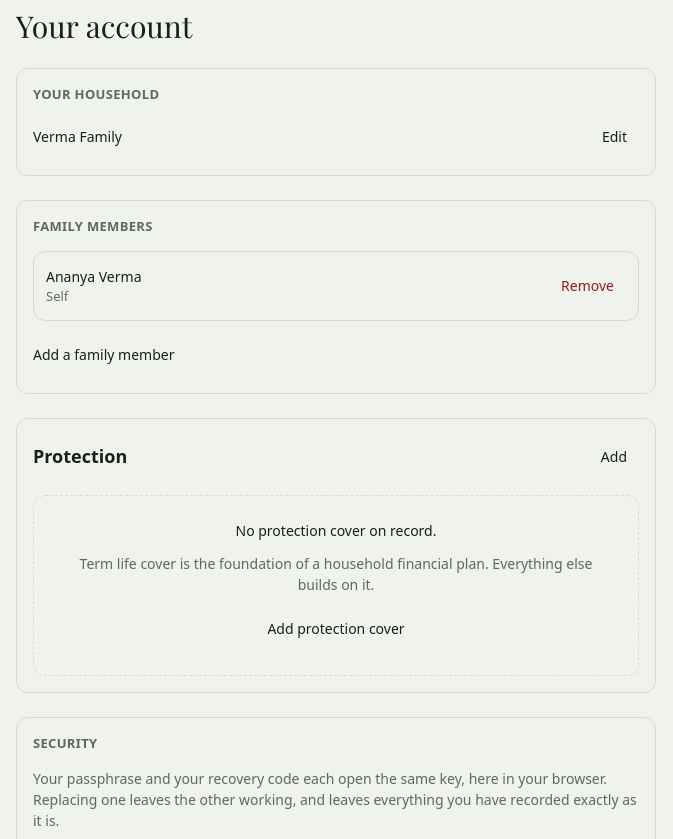
Scenario: Profile › shows the household name and edits it via the inline Edit form
The image size is (673, 839).
Expected: the text "Verma Family" is shown, [33,126,122,147]
Click the button "Edit" at (614, 137), box [590,115,639,159]
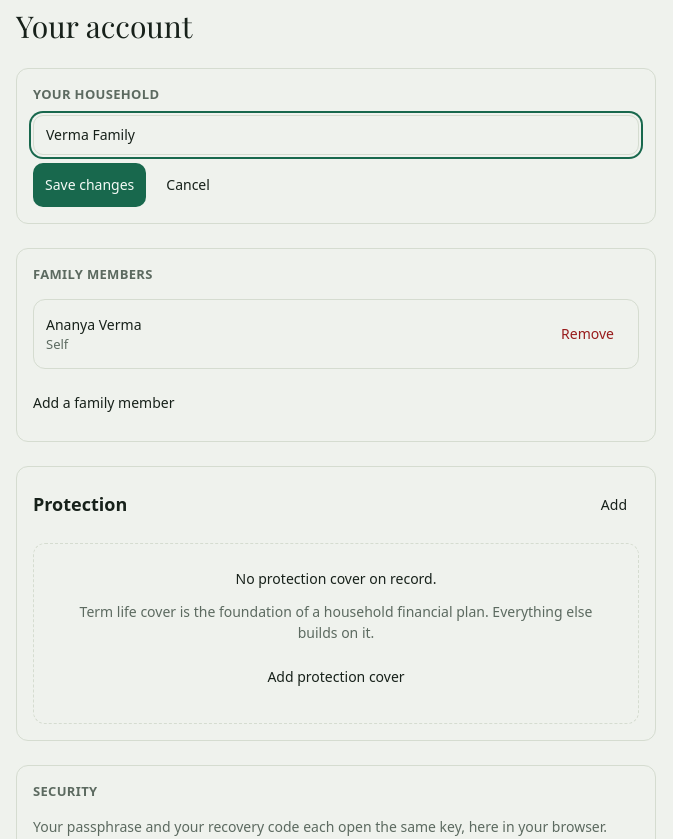
Replace the text in the field showing "Verma Family" with "Verma-Rao Family" at (336, 135), box [33,115,639,155]
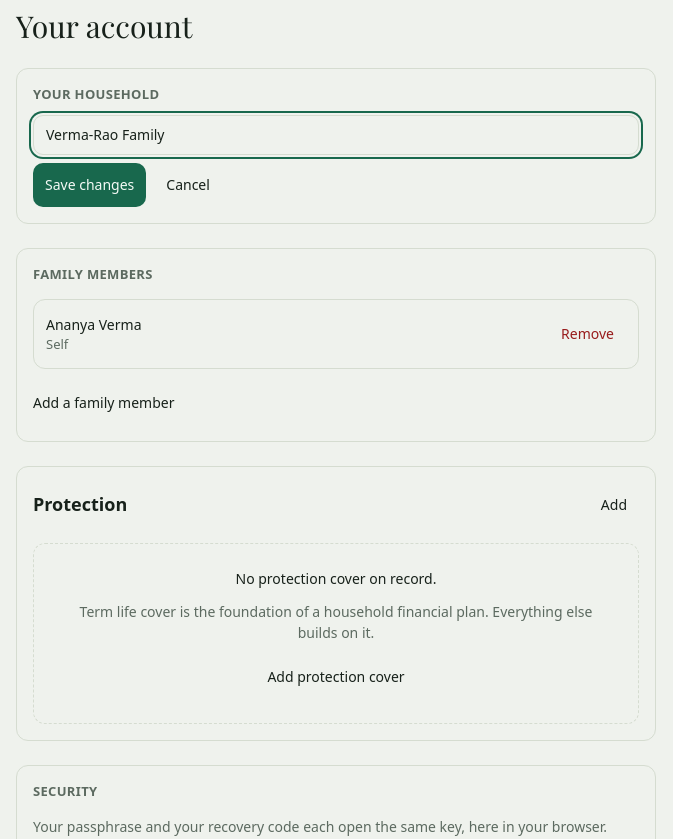
Click the button "Save changes" at (90, 185), box [33,163,146,207]
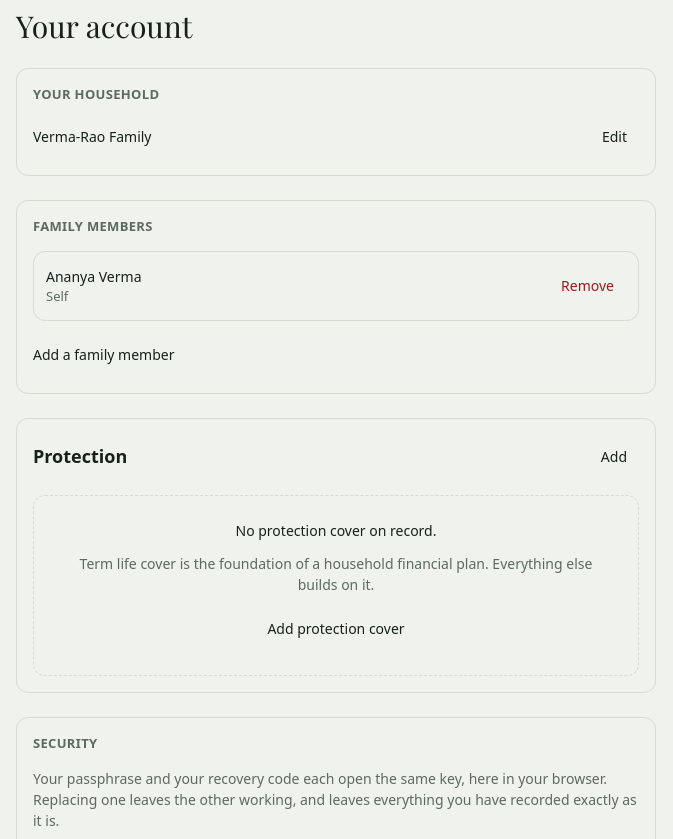
Now the text "Verma-Rao Family" is shown, box [33,126,152,147]
